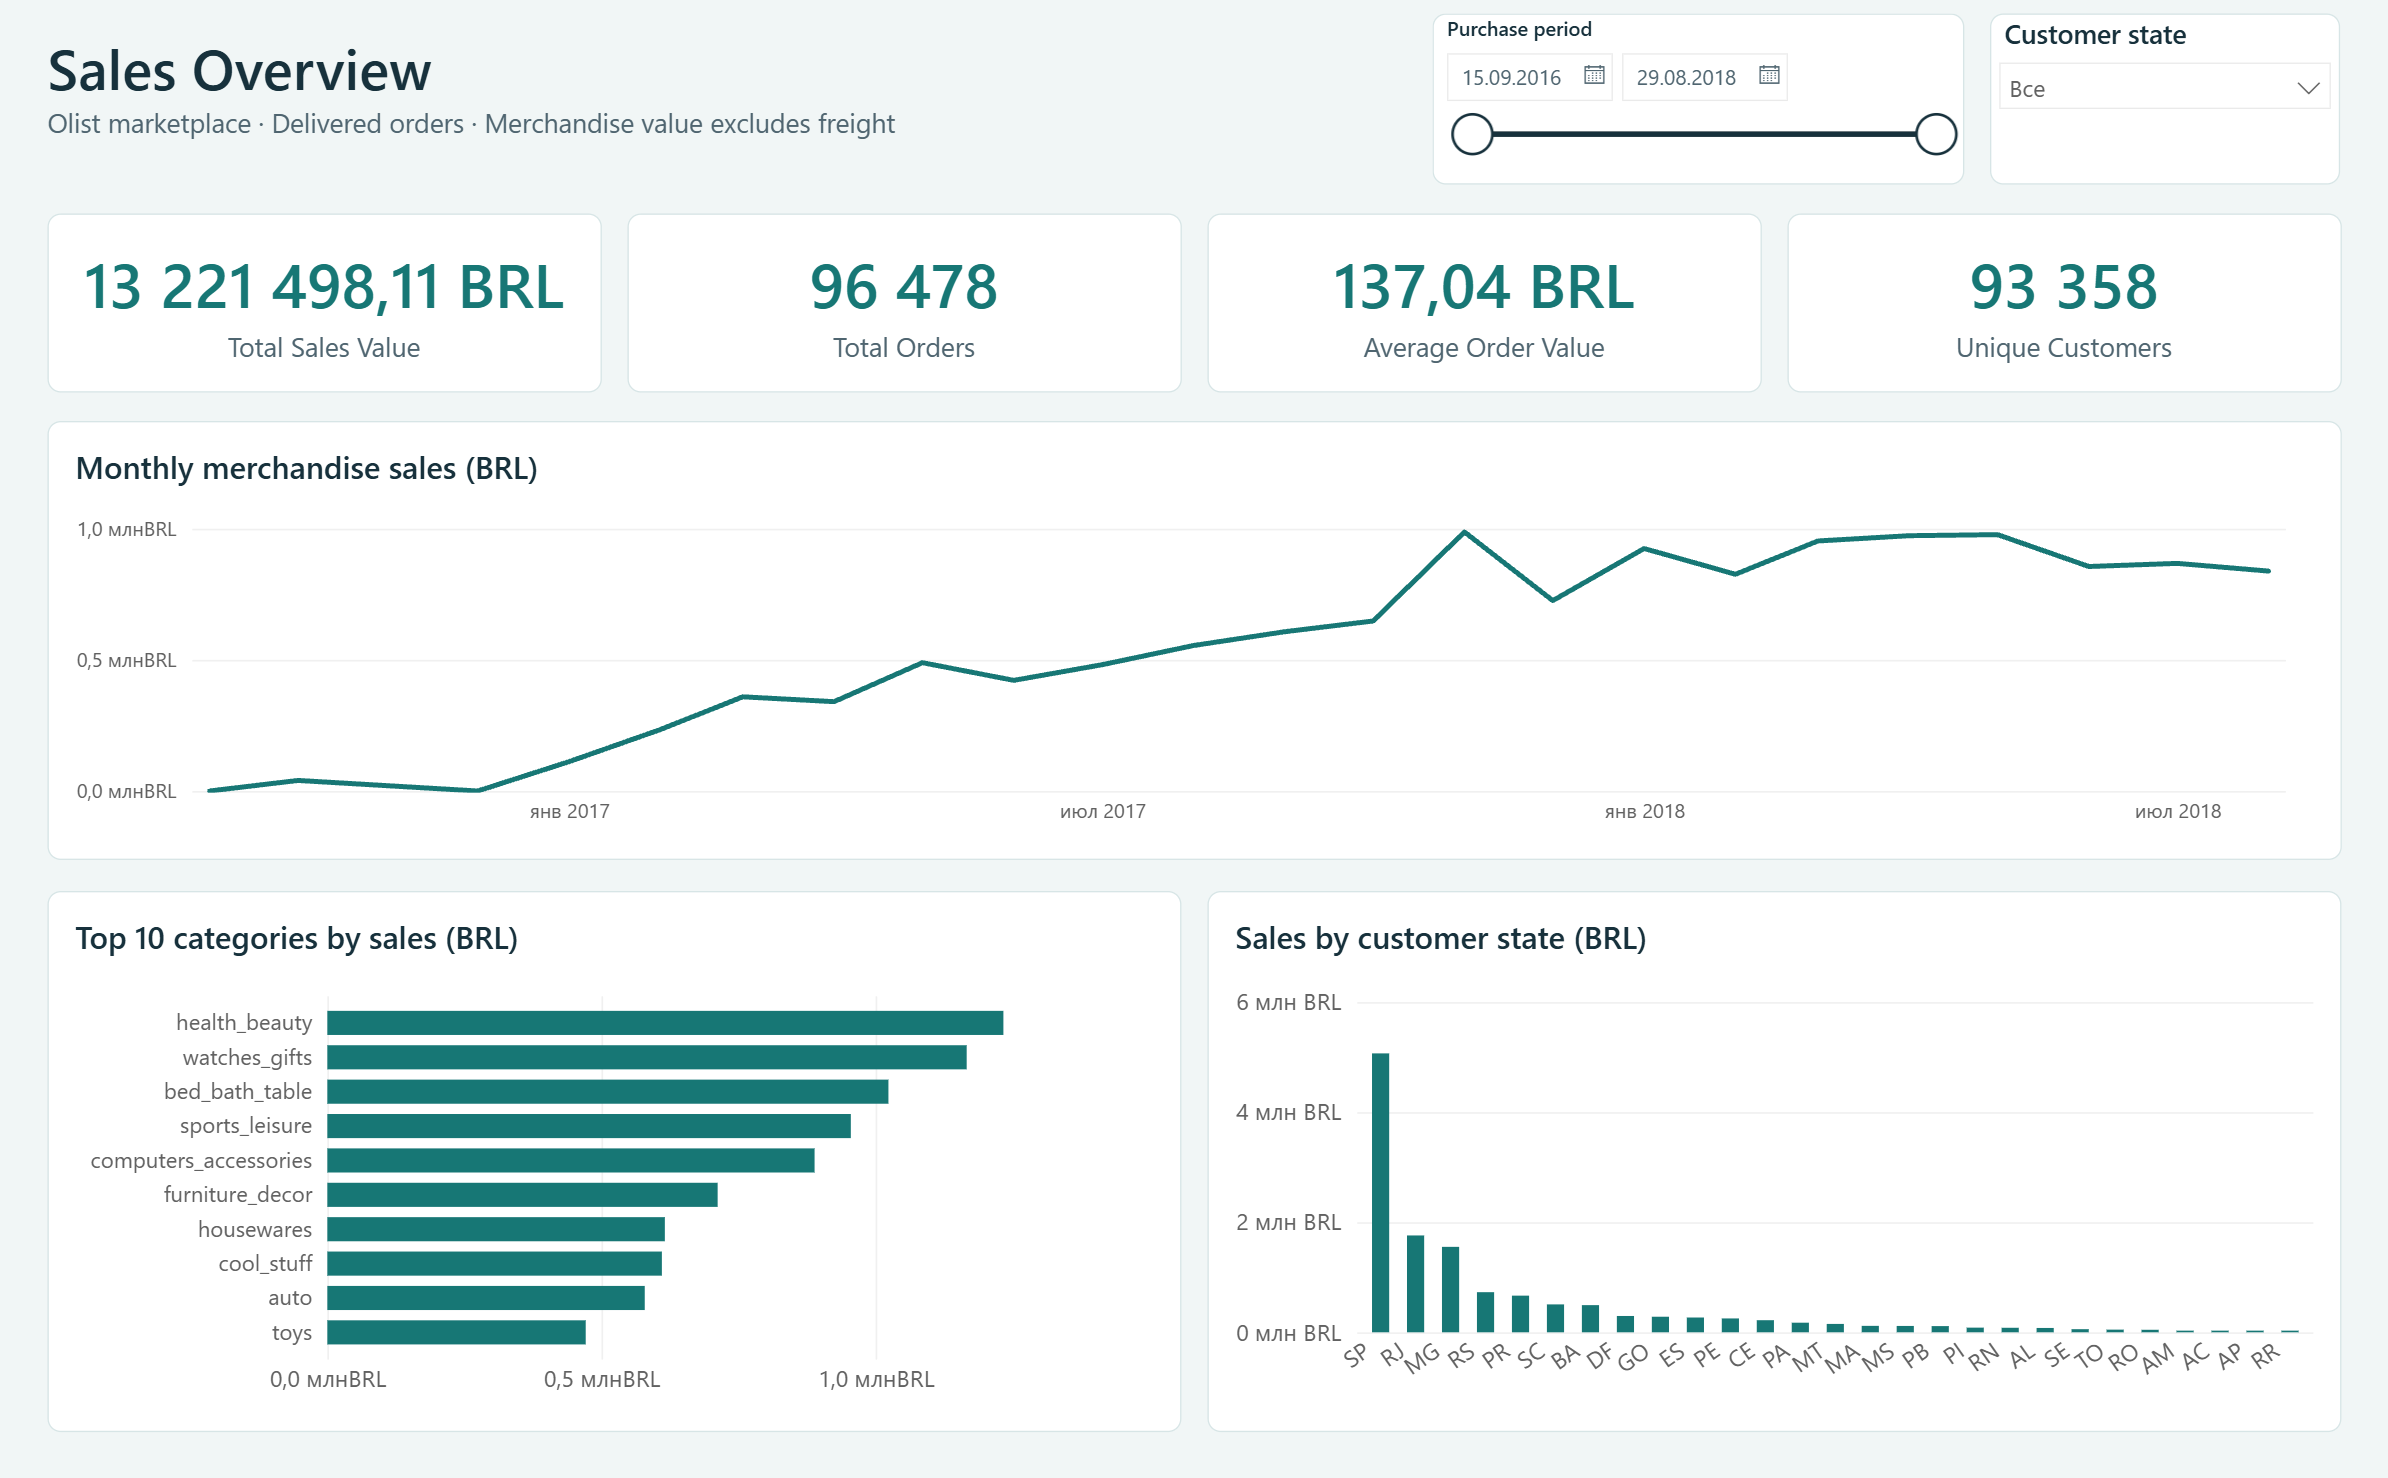

Layout of this report page (visuals, bound fields, positions):
{"tool":"powerbi","page":{"name":"Sales Overview","canvas":[1440,900],"ordinal":0},"visuals":[{"type":"textbox","box":[28,25,805,81],"z":100},{"type":"slicer","fields":{"Values":["Sales.OrderDate"]},"box":[864,17,321,103],"z":200},{"type":"slicer","fields":{"Values":["Sales.State"]},"box":[1201,17,211,103],"z":300},{"type":"card","fields":{"Values":["Sales.Total Sales Value"]},"box":[28,137,334,108],"z":400},{"type":"card","fields":{"Values":["Sales.Total Orders"]},"box":[378,137,334,108],"z":500},{"type":"card","fields":{"Values":["Sales.Average Order Value"]},"box":[728,137,334,108],"z":600},{"type":"card","fields":{"Values":["Sales.Unique Customers"]},"box":[1078,137,334,108],"z":700},{"type":"lineChart","title":"Monthly merchandise sales (BRL)","fields":{"Category":["Sales.PurchaseMonth"],"Y":["Sales.Total Sales Value"]},"box":[28,263,1384,265],"z":800},{"type":"clusteredBarChart","title":"Top 10 categories by sales (BRL)","fields":{"Category":["Sales.Category"],"Y":["Sales.Total Sales Value"]},"box":[28,546,684,326],"z":900},{"type":"clusteredColumnChart","title":"Sales by customer state (BRL)","fields":{"Category":["Sales.State"],"Y":["Sales.Total Sales Value"]},"box":[728,546,684,326],"z":1000}]}

Visuals, with their boxes in screenshot pixels (x1, y1, x2, y2), scaled from the page's 1440x900 canvas onto the 2388x1478 screenshot:
textbox: {"x1": 46, "y1": 41, "x2": 1381, "y2": 174}
slicer - Sales.OrderDate: {"x1": 1433, "y1": 28, "x2": 1965, "y2": 197}
slicer - Sales.State: {"x1": 1992, "y1": 28, "x2": 2342, "y2": 197}
card - Sales.Total Sales Value: {"x1": 46, "y1": 225, "x2": 600, "y2": 402}
card - Sales.Total Orders: {"x1": 627, "y1": 225, "x2": 1181, "y2": 402}
card - Sales.Average Order Value: {"x1": 1207, "y1": 225, "x2": 1761, "y2": 402}
card - Sales.Unique Customers: {"x1": 1788, "y1": 225, "x2": 2342, "y2": 402}
"Monthly merchandise sales (BRL)" lineChart: {"x1": 46, "y1": 432, "x2": 2342, "y2": 867}
"Top 10 categories by sales (BRL)" clusteredBarChart: {"x1": 46, "y1": 897, "x2": 1181, "y2": 1432}
"Sales by customer state (BRL)" clusteredColumnChart: {"x1": 1207, "y1": 897, "x2": 2342, "y2": 1432}
